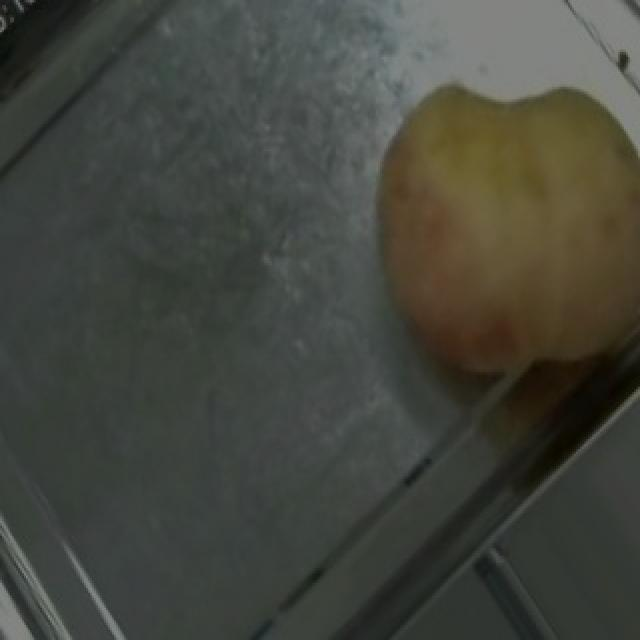Fruit: (330, 37, 640, 444)
